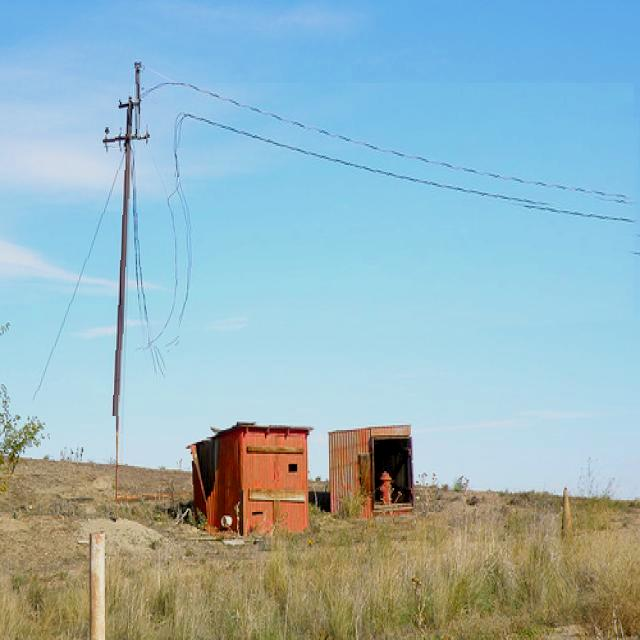crossarm: (102, 127, 151, 146), (133, 61, 143, 140), (118, 94, 143, 109)
pole: (116, 99, 132, 519)
wire: (166, 117, 637, 348), (141, 83, 634, 206), (33, 147, 127, 405), (135, 172, 165, 377), (148, 178, 179, 346)
